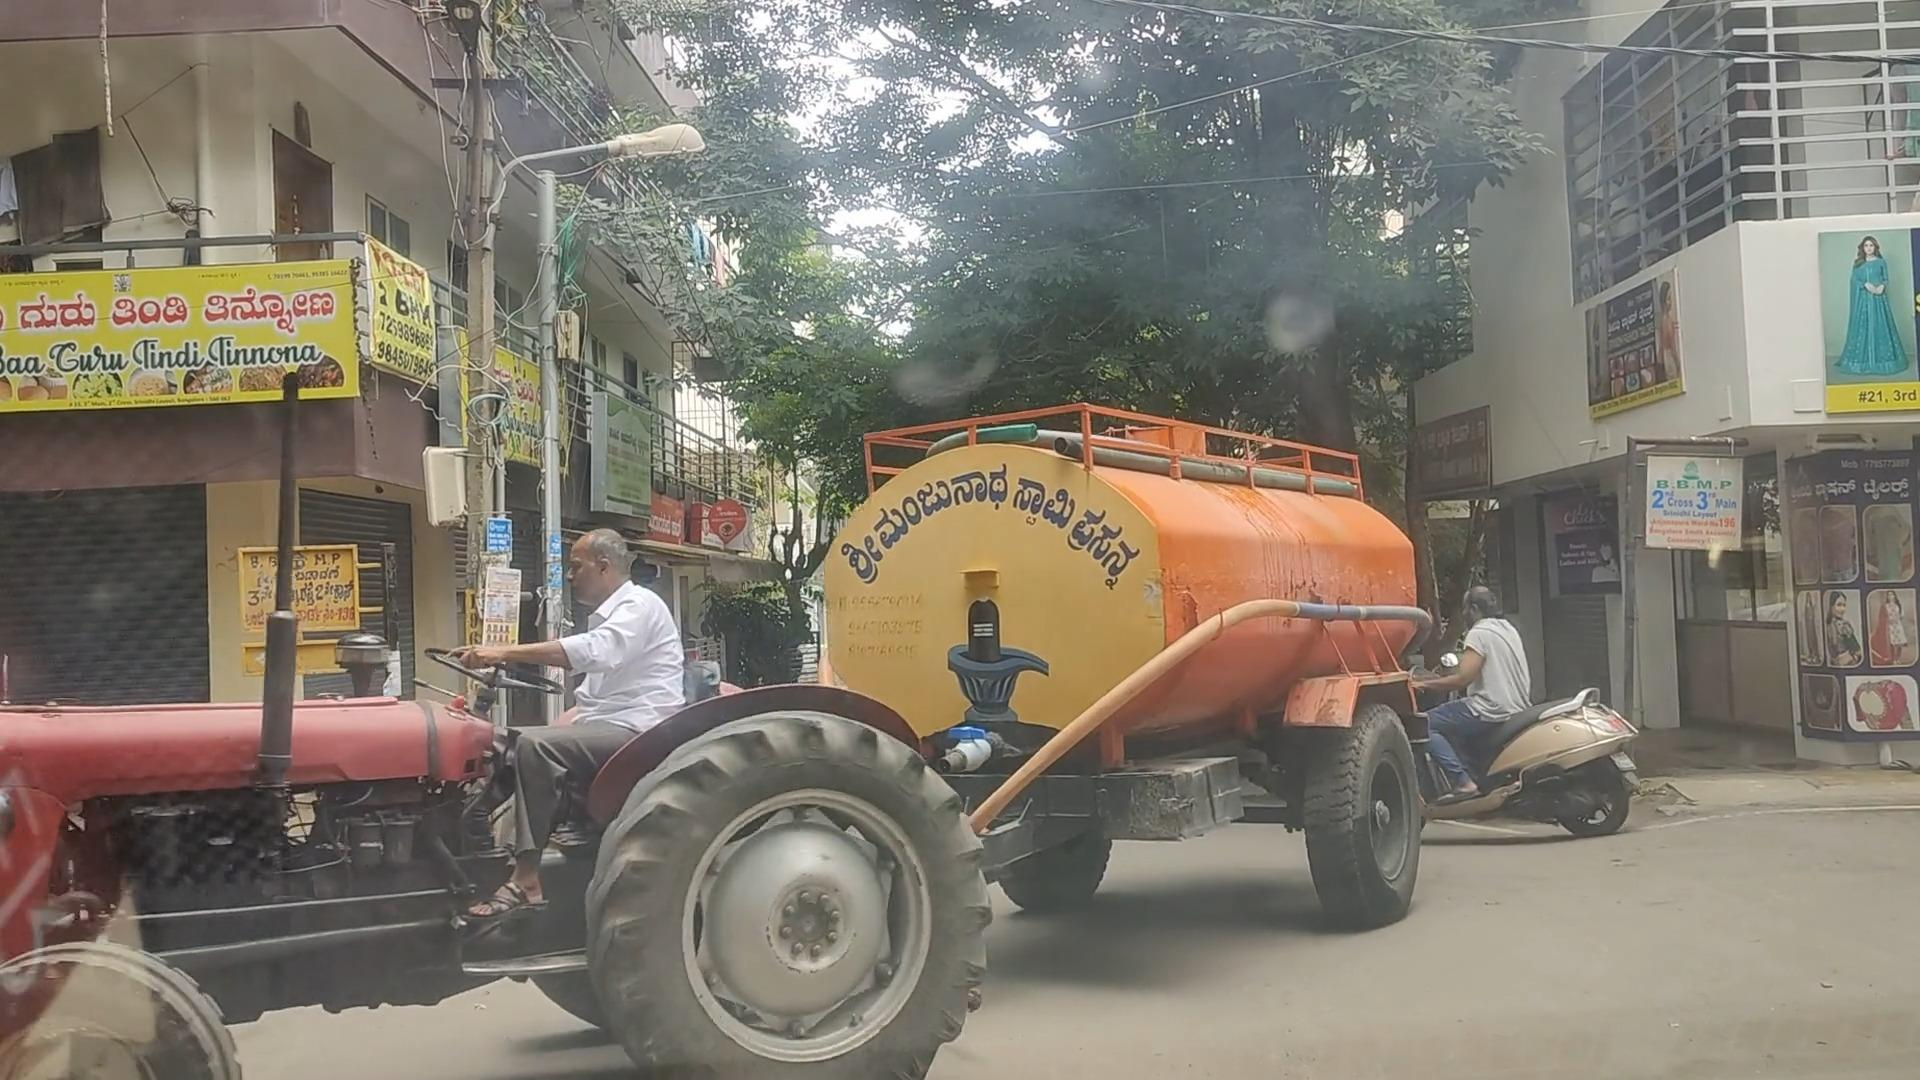HMV: (0, 231, 1427, 1080)
LMV: (1354, 575, 1677, 848)
